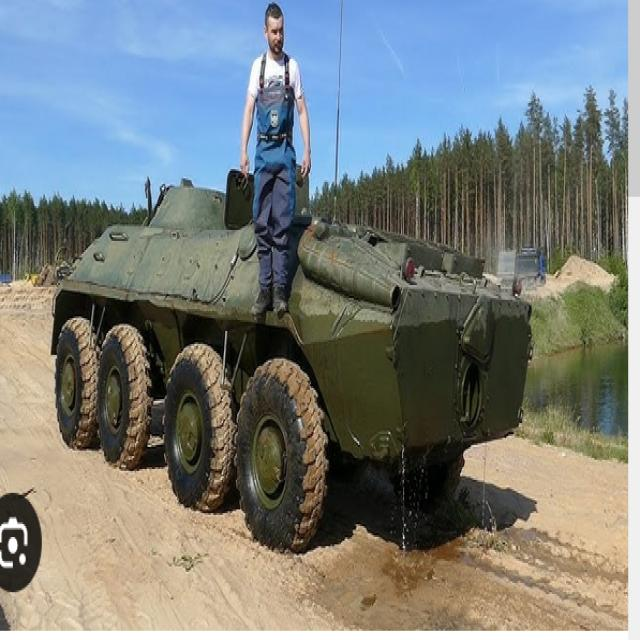MIL_APC: (32, 154, 554, 554)
